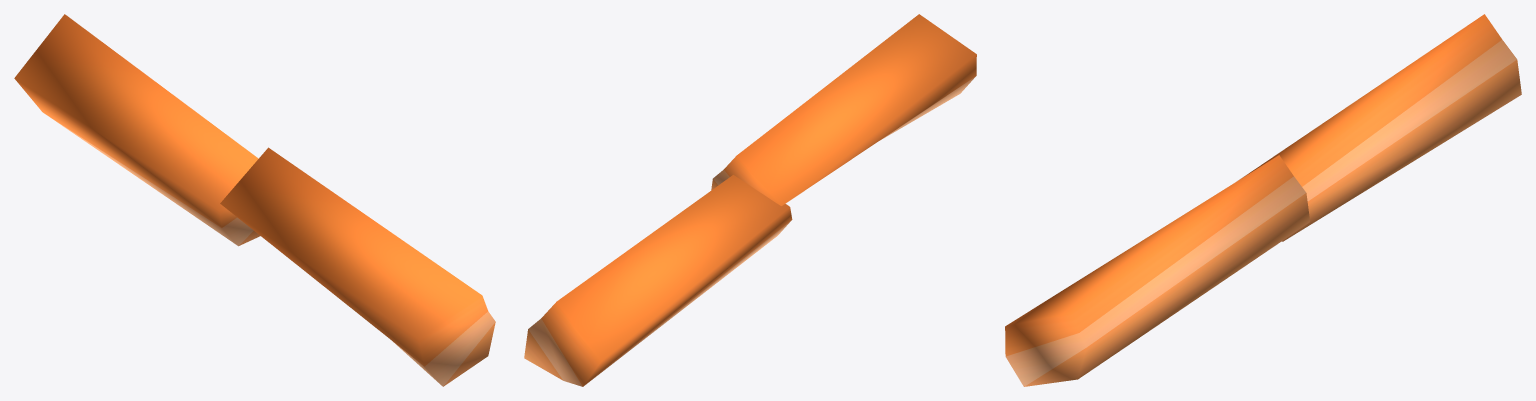
File: Salmon_Cut_001.gltf
3 views of the same model, side by side, from view 1: azimuth 30°, elevation 25°; view 2: azimuth 150°, elevation 25°; view 3: azimuth 330°, elevation 25° (orthographic). The views are drawn at different scales.
Parts seen in each view (by area): view 1: Salmon_Cut_001_x; view 2: Salmon_Cut_001_x; view 3: Salmon_Cut_001_x.
Boxes of the visible parts, box(x1,y1,x2,y2) form: Salmon_Cut_001_x: box(14, 14, 495, 386); Salmon_Cut_001_x: box(524, 14, 976, 386); Salmon_Cut_001_x: box(1005, 14, 1521, 386).
Bounding box in the file's own units: 0.1782 × 0.2021 × 1.45.
1 material, 1 textured.
